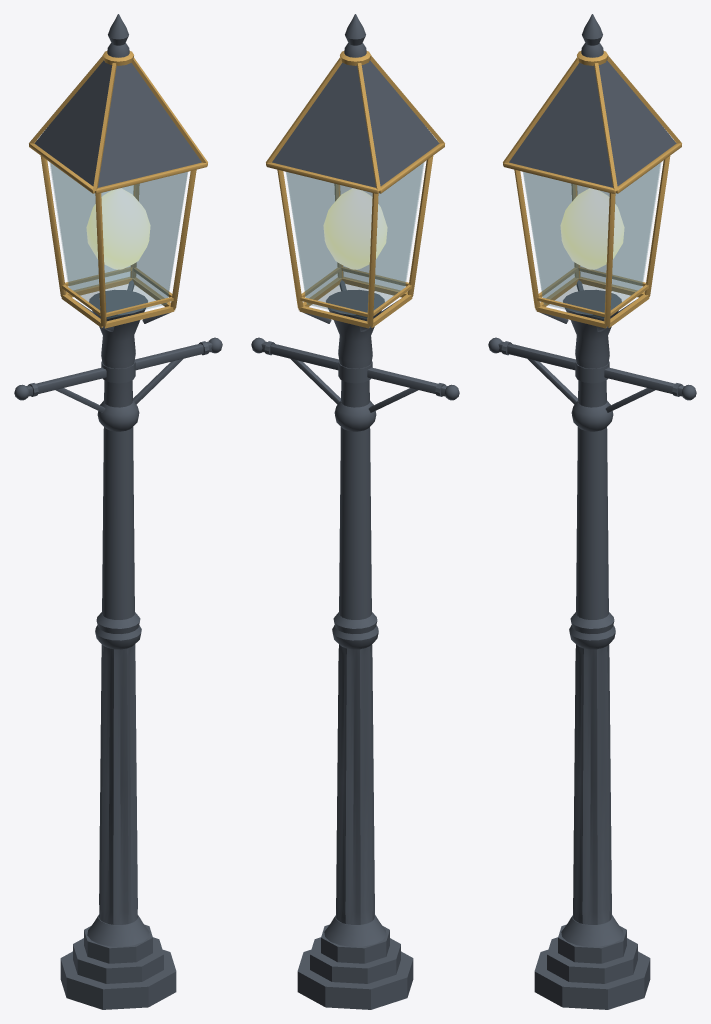
Rendered from Gaslamp.fbx.
3 views of the same model, side by side, from view 1: azimuth 30°, elevation 25°; view 2: azimuth 150°, elevation 25°; view 3: azimuth 330°, elevation 25° (orthographic).
Visible parts, largest first — view 1: Gaslamp_Iron, Gaslamp_Glass, Gaslamp_Brass, Gaslamp_Flame; view 2: Gaslamp_Iron, Gaslamp_Glass, Gaslamp_Brass, Gaslamp_Flame; view 3: Gaslamp_Iron, Gaslamp_Glass, Gaslamp_Brass, Gaslamp_Flame.
Part boxes in pixels (x1,y1,x2,y2): Gaslamp_Iron: [14, 14, 222, 1009]; Gaslamp_Glass: [50, 163, 187, 318]; Gaslamp_Brass: [29, 51, 207, 328]; Gaslamp_Flame: [86, 188, 150, 269]; Gaslamp_Iron: [251, 14, 459, 1009]; Gaslamp_Glass: [286, 163, 423, 318]; Gaslamp_Brass: [266, 51, 444, 328]; Gaslamp_Flame: [323, 188, 387, 269]; Gaslamp_Iron: [488, 14, 696, 1009]; Gaslamp_Glass: [523, 163, 660, 318]; Gaslamp_Brass: [503, 51, 681, 328]; Gaslamp_Flame: [560, 188, 624, 269].
Size of the model in its own units: 3.33 by 15 by 1.87.
